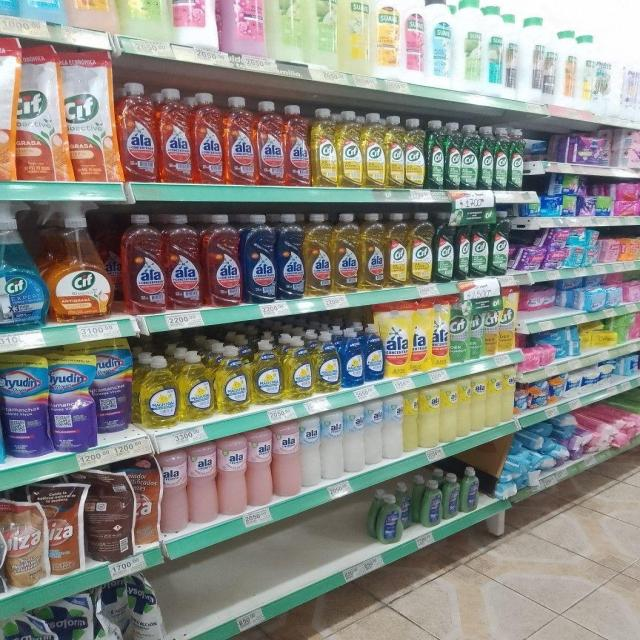ala_conc_amarillo: (332, 212, 359, 294), (305, 212, 331, 296), (360, 212, 386, 291)
ala_conc_azul: (243, 213, 275, 304), (276, 213, 304, 300)
ala_conc_rojo: (121, 212, 165, 314), (120, 82, 157, 182), (165, 213, 202, 311), (204, 213, 242, 307), (158, 87, 192, 184), (224, 96, 256, 185), (193, 92, 223, 184), (256, 100, 284, 186), (286, 103, 310, 187)
ala_crem_amarillo: (420, 385, 440, 448), (440, 380, 457, 444), (472, 374, 487, 432)
ala_crem_blanco: (321, 408, 343, 480), (300, 414, 320, 488), (344, 404, 365, 473), (366, 397, 382, 466)
ala_crem_rosado: (160, 448, 188, 534), (188, 442, 217, 524), (218, 435, 246, 516), (273, 420, 300, 498), (248, 427, 272, 508)
ala_sachet_amarillo: (383, 301, 410, 377), (411, 300, 430, 373), (432, 299, 449, 369)
cif_conc_bot_amarilla: (312, 107, 336, 188), (338, 110, 361, 188), (362, 112, 384, 189), (387, 212, 409, 287), (410, 212, 432, 285), (385, 115, 405, 189), (405, 118, 425, 190)
cif_conc_botella_verde: (434, 212, 454, 282), (426, 119, 444, 190), (490, 210, 509, 276), (471, 211, 489, 278), (445, 121, 461, 190), (462, 123, 478, 190), (455, 212, 470, 280), (509, 128, 525, 190), (479, 125, 494, 190), (494, 126, 509, 190)
cif_conc_sachet_amarillo: (1, 35, 16, 182)
magistral_con_amarillo: (139, 355, 177, 428), (179, 350, 213, 421), (214, 344, 248, 414), (251, 339, 282, 405), (284, 335, 312, 400), (313, 330, 340, 393)
magistral_con_azul: (341, 328, 364, 388), (365, 324, 383, 382)
